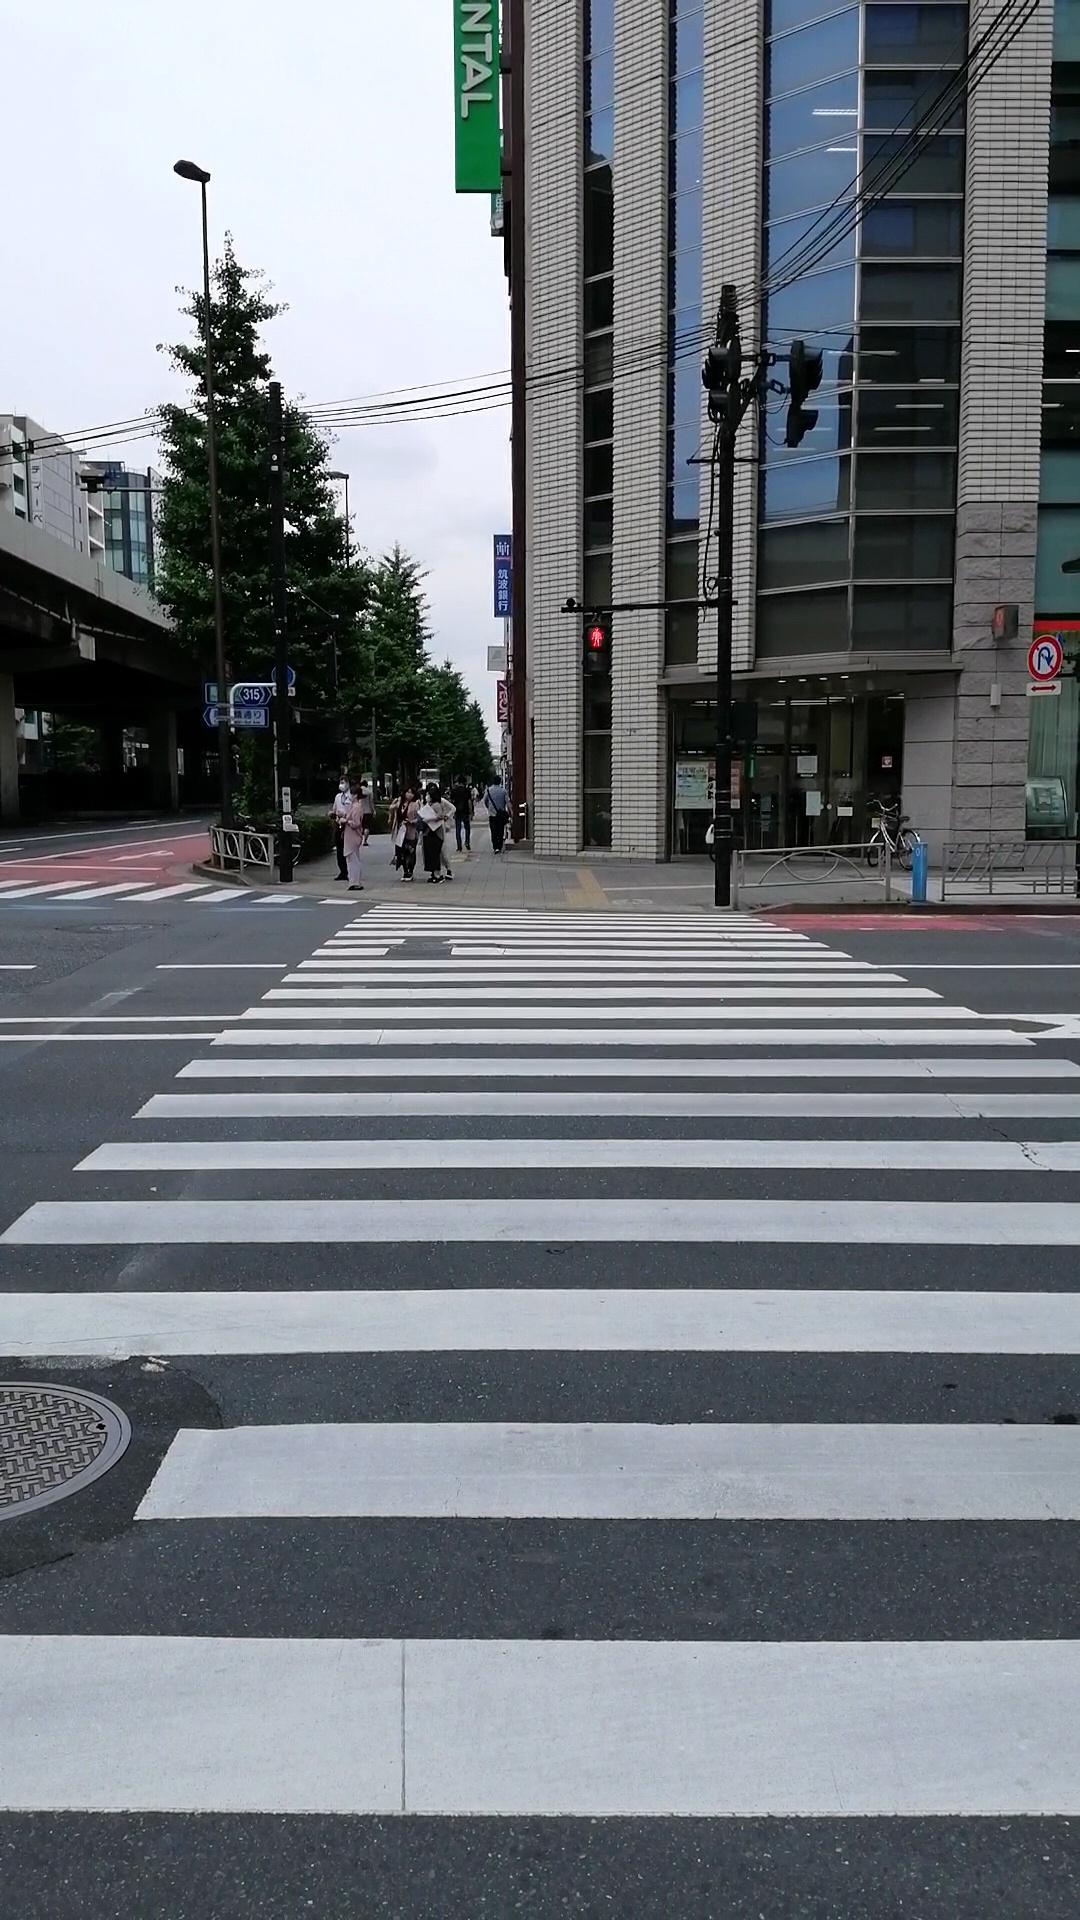red: (582, 622, 612, 676)
